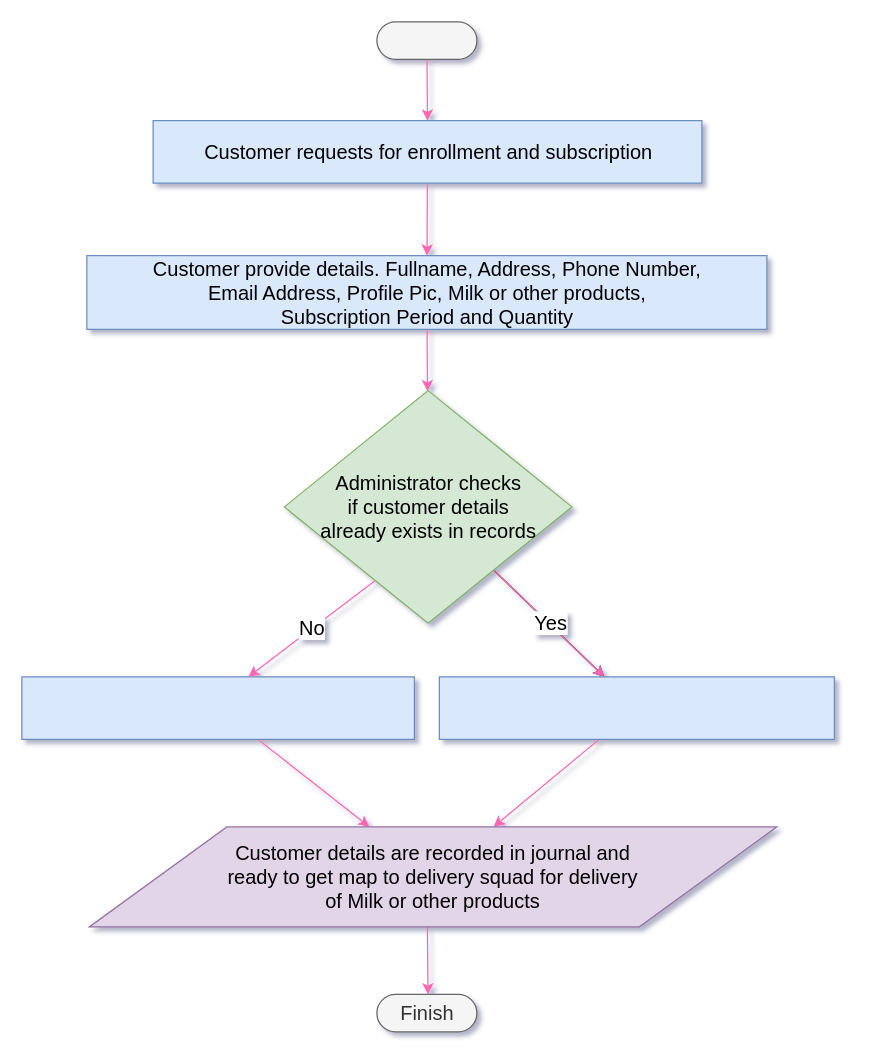
Some shapes in this 875 by 1061 pixel diagram are drawn without their labels. Each missing label, with the centre of its shape:
"Administrator creates new customer record in journal with provided details" goes at point (217, 707).
"Administrator updates existing customer record in journal with provided details" goes at point (636, 707).
"Start" goes at point (426, 40).
